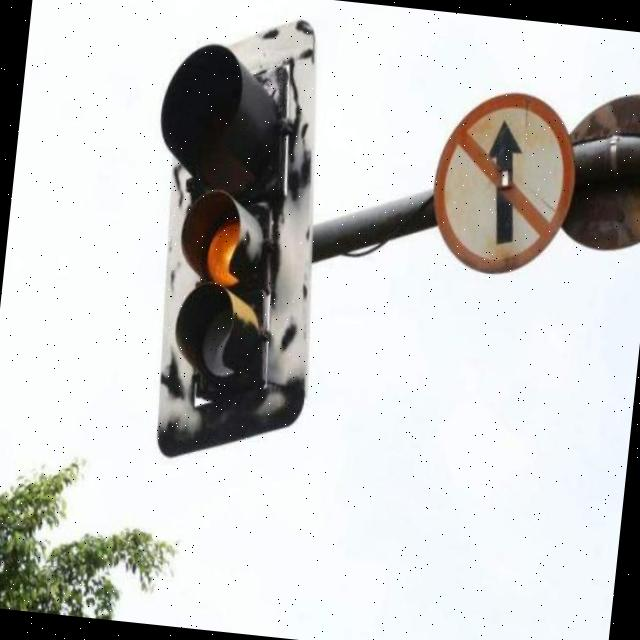yellow_light: (168, 68, 293, 408)
